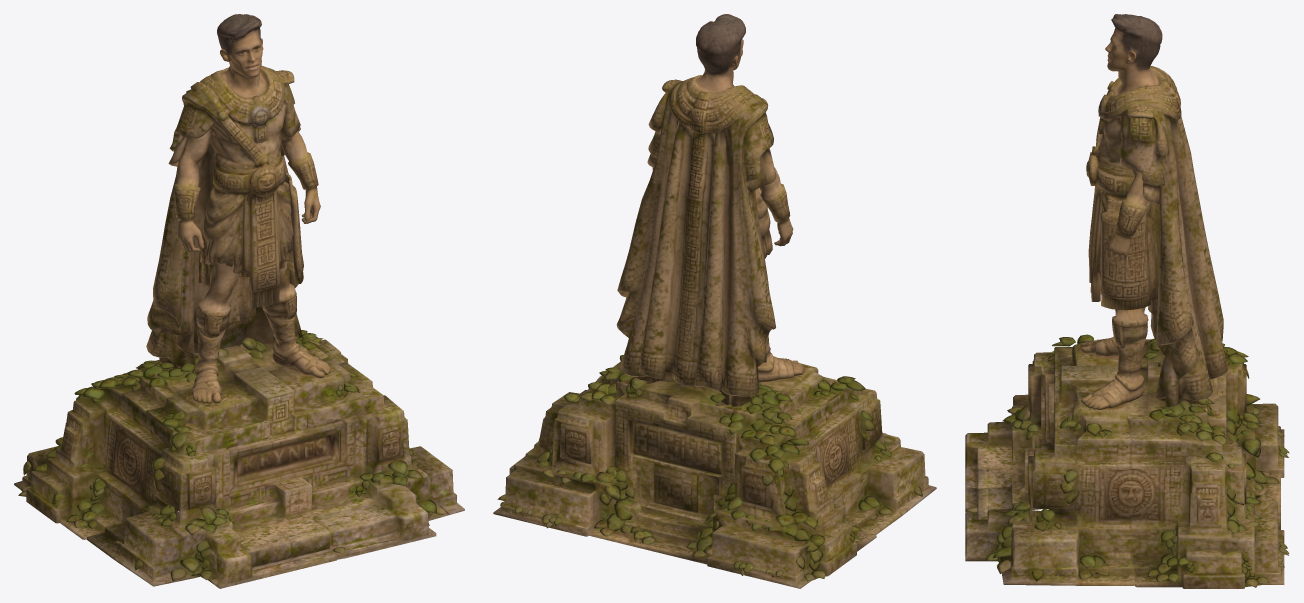
File: EST_Keynes_LOD0.fbx
3 renders of one model, left to right at view 1: azimuth 30°, elevation 25°; view 2: azimuth 150°, elevation 25°; view 3: azimuth 270°, elevation 25°, orthographic. The views are drawn at different scales.
Parts seen in each view (by area): view 1: EST_Keynes_LOD0_tripo_node_869c80de-6848-4007-b3e0-8d3ddfe9a; view 2: EST_Keynes_LOD0_tripo_node_869c80de-6848-4007-b3e0-8d3ddfe9a; view 3: EST_Keynes_LOD0_tripo_node_869c80de-6848-4007-b3e0-8d3ddfe9a.
Boxes of the visible parts, <box> form: EST_Keynes_LOD0_tripo_node_869c80de-6848-4007-b3e0-8d3ddfe9a: <box>14,14,464,588</box>; EST_Keynes_LOD0_tripo_node_869c80de-6848-4007-b3e0-8d3ddfe9a: <box>493,14,936,588</box>; EST_Keynes_LOD0_tripo_node_869c80de-6848-4007-b3e0-8d3ddfe9a: <box>965,14,1289,588</box>.
Bounding box in the file's own units: 0.7173 × 0.9995 × 0.5986.
Materials: 1 (1 with a texture image).
